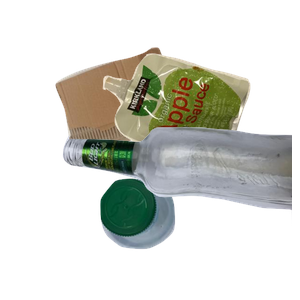cardboard: (53, 45, 221, 204)
glass: (60, 124, 300, 300)
plastic: (98, 176, 266, 300)
trash: (100, 51, 300, 214)
